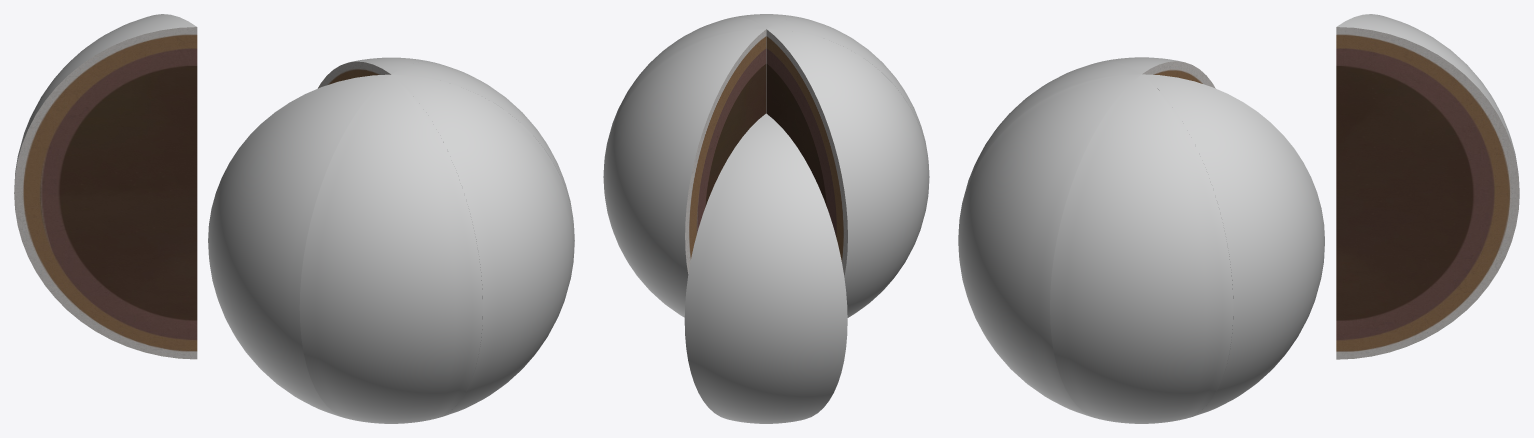
The model's file is TouchBook_r6.gltf.
3 views of the same model, side by side, from view 1: azimuth 30°, elevation 25°; view 2: azimuth 150°, elevation 25°; view 3: azimuth 270°, elevation 25° (orthographic). The views are drawn at different scales.
Parts seen in each view (by area): view 1: Slice 3, Slice 1-Mat, Slice 4, Slice 2-Outer Shell, Slice 5, Slice 1-Outer Shell, Slice 6-Mat, Slice 6-Outer Shell; view 2: Slice 1-Outer Shell, Slice 6-Outer Shell, Slice 2-Outer Shell, Slice 2-Mat, Slice 6-Mat, Slice 3, Slice 5, Slice 4; view 3: Slice 5, Slice 1-Mat, Slice 6-Outer Shell, Slice 4, Slice 3, Slice 1-Outer Shell, Slice 2-Mat, Slice 2-Outer Shell.
Boxes of the visible parts, box(x1,y1,x2,y2) form: Slice 3: box(299, 74, 482, 423); Slice 1-Mat: box(14, 27, 197, 359); Slice 4: box(392, 74, 574, 418); Slice 2-Outer Shell: box(208, 74, 390, 418); Slice 5: box(392, 61, 574, 253); Slice 1-Outer Shell: box(14, 14, 196, 186); Slice 6-Mat: box(318, 61, 390, 88); Slice 6-Outer Shell: box(350, 57, 434, 74); Slice 1-Outer Shell: box(684, 113, 847, 423); Slice 6-Outer Shell: box(603, 29, 766, 317); Slice 2-Outer Shell: box(767, 29, 929, 317); Slice 2-Mat: box(766, 29, 847, 276); Slice 6-Mat: box(685, 29, 766, 273); Slice 3: box(767, 17, 929, 189); Slice 5: box(604, 17, 765, 160); Slice 4: box(729, 14, 803, 28); Slice 5: box(1050, 74, 1233, 423); Slice 1-Mat: box(1336, 27, 1519, 359); Slice 6-Outer Shell: box(1142, 74, 1324, 418); Slice 4: box(958, 74, 1141, 418); Slice 3: box(959, 61, 1140, 221); Slice 1-Outer Shell: box(1337, 14, 1518, 174); Slice 2-Mat: box(1142, 61, 1215, 88); Slice 2-Outer Shell: box(1101, 57, 1182, 74).
Bounding box in the file's own units: 247 × 200 × 306.
Materials: 2 (1 with a texture image).
